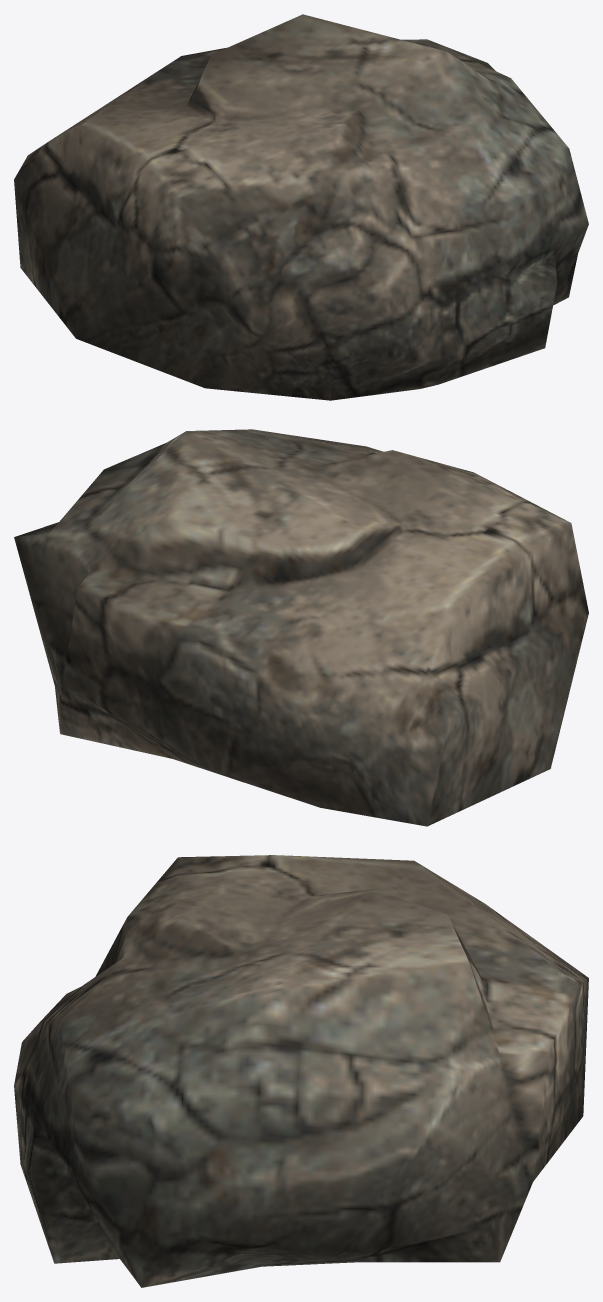
The model's file is SC_yonghengsenlin_shitou03.FBX.
3 views of the same model, one above another, from view 1: azimuth 30°, elevation 25°; view 2: azimuth 150°, elevation 25°; view 3: azimuth 270°, elevation 25° (orthographic). The views are drawn at different scales.
Visible parts, largest first — view 1: SC_yonghengsenlin_shitou03; view 2: SC_yonghengsenlin_shitou03; view 3: SC_yonghengsenlin_shitou03.
Boxes of the visible parts, x1,y1,x2,y2 form: SC_yonghengsenlin_shitou03: [14, 14, 588, 400]; SC_yonghengsenlin_shitou03: [14, 429, 588, 826]; SC_yonghengsenlin_shitou03: [14, 855, 588, 1287].
Bounding box in the file's own units: 277 × 144 × 251.
